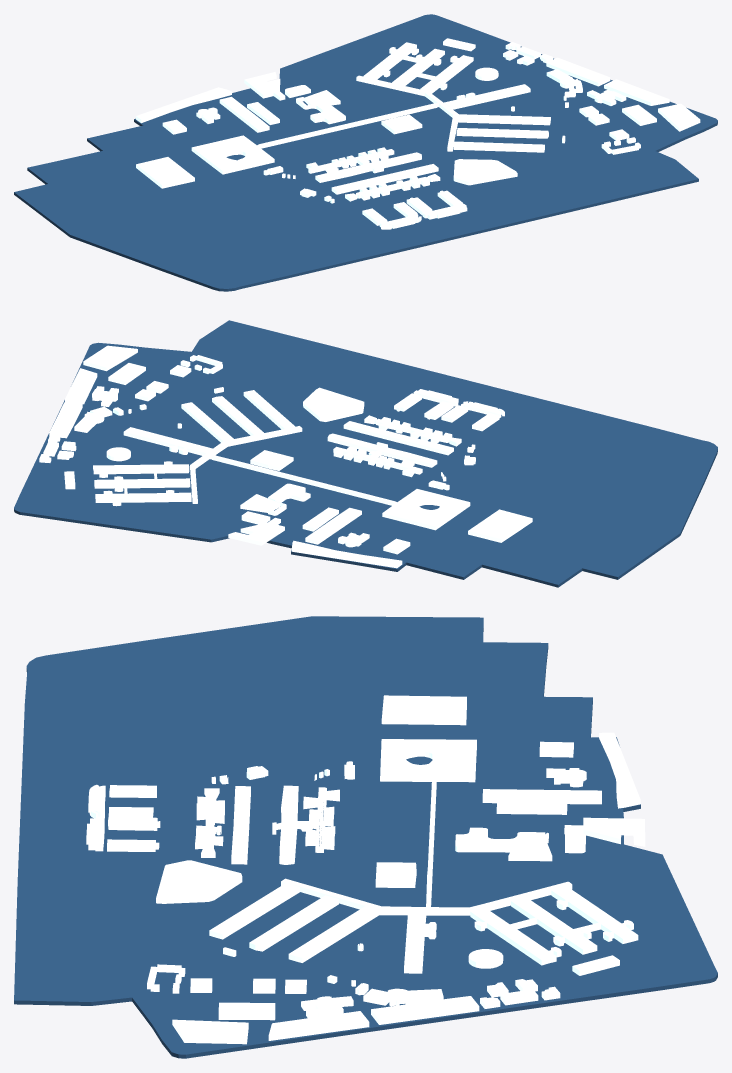
The model's file is usthb_map.glb.
The picture shows the model from 3 angles, top to bottom: view 1: azimuth 30°, elevation 25°; view 2: azimuth 150°, elevation 25°; view 3: azimuth 270°, elevation 25°; orthographic projection. The views are drawn at different scales.
Parts seen in each view (by area): view 1: Curve.011; view 2: Curve.011; view 3: Curve.011.
Part boxes in pixels (x1,y1,x2,y2): Curve.011: [14, 14, 717, 291]; Curve.011: [14, 320, 717, 587]; Curve.011: [14, 616, 717, 1058].
Bounding box in the file's own units: 3.53 × 0.0345 × 2.39.
